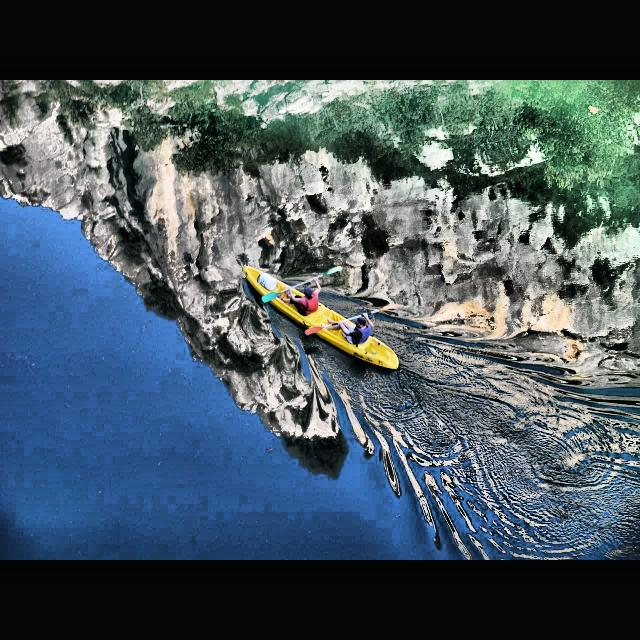kayak: (241, 262, 401, 374)
